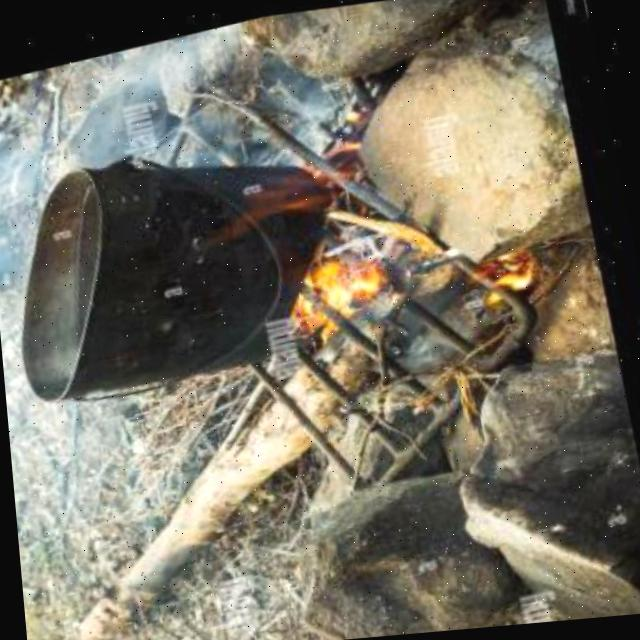fire: (245, 237, 407, 380), (465, 242, 552, 315)
